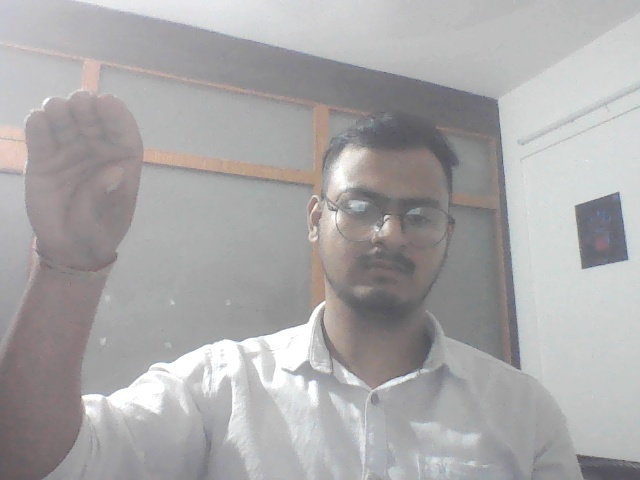NO: (8, 74, 155, 282)
